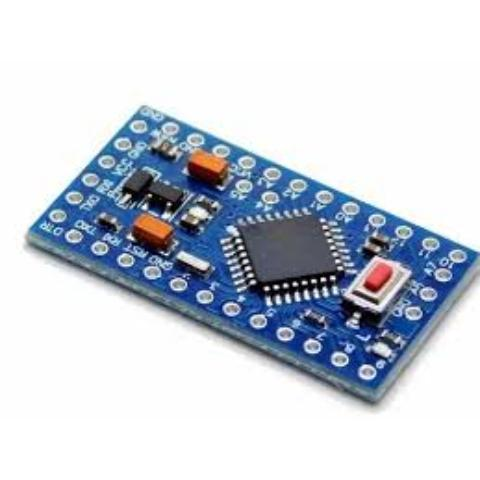Arduino-Pro-Mini: (18, 92, 480, 410)
